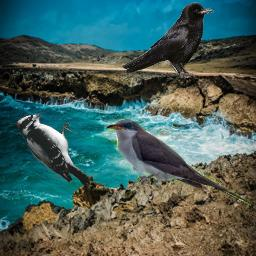Crow: (121, 2, 214, 78)
Cuckoo: (104, 119, 251, 208)
Woodpecker: (17, 112, 90, 186)
